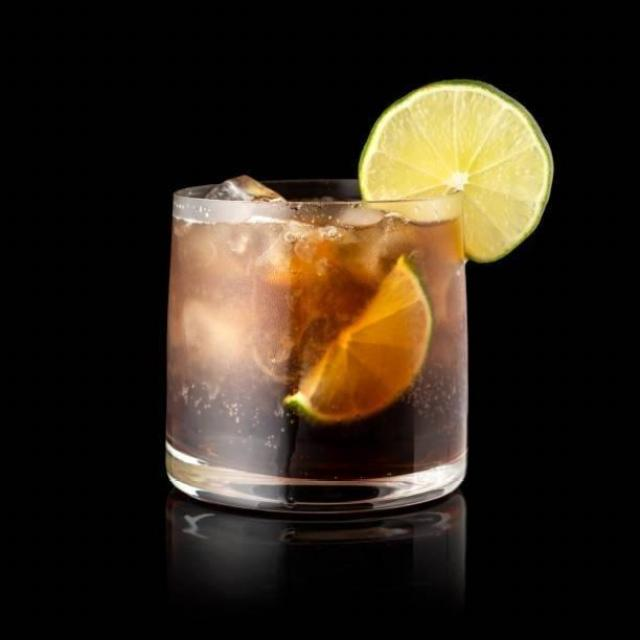glass-normal: (161, 176, 475, 514)
